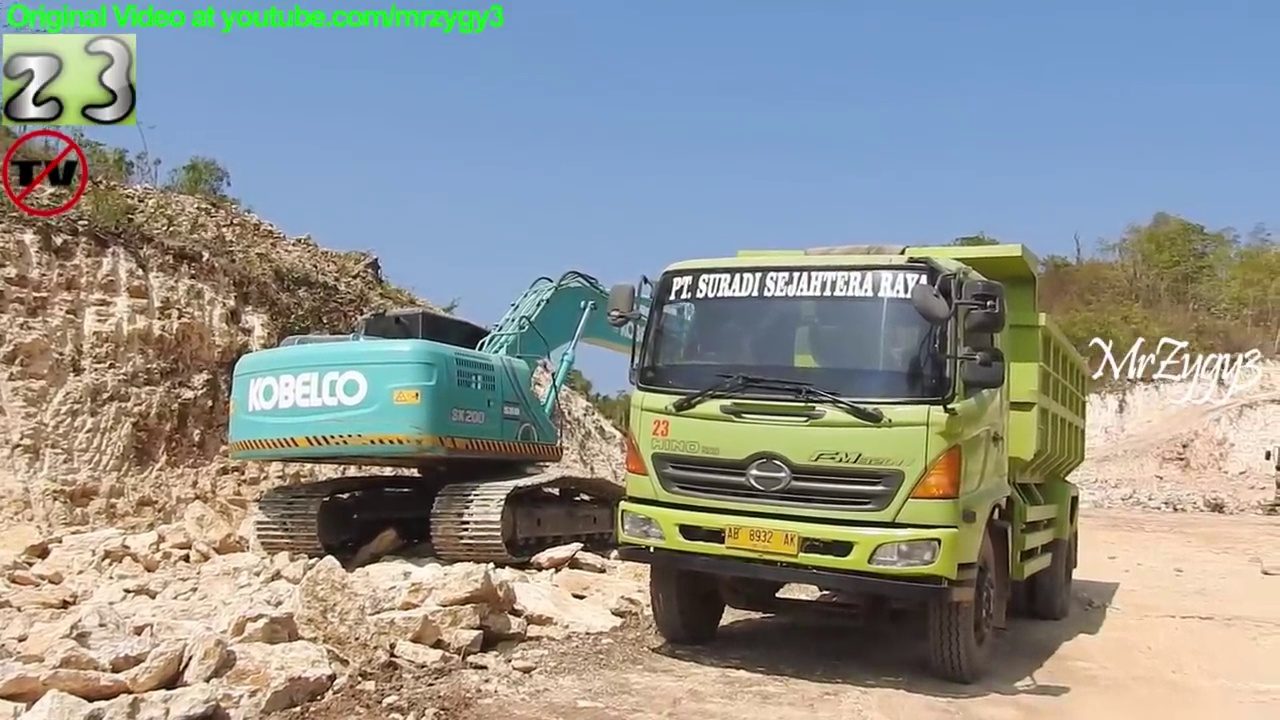excavator: (217, 261, 926, 574)
truck: (603, 237, 1096, 689)
